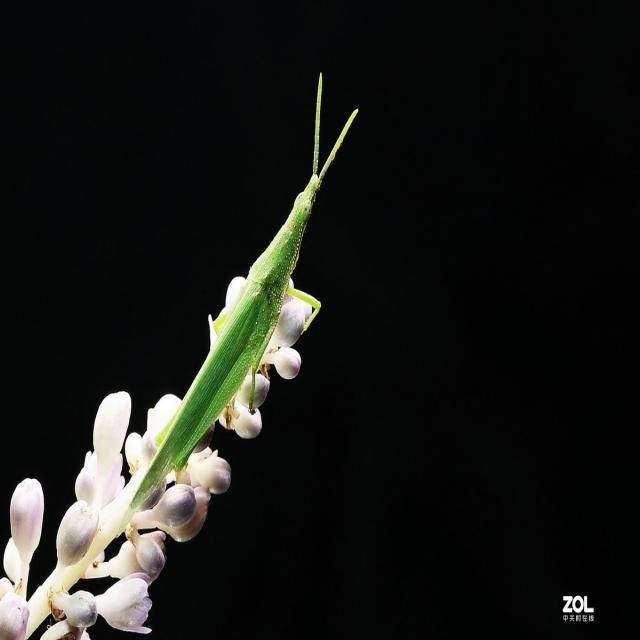ZhaMeng: (125, 65, 365, 522)
